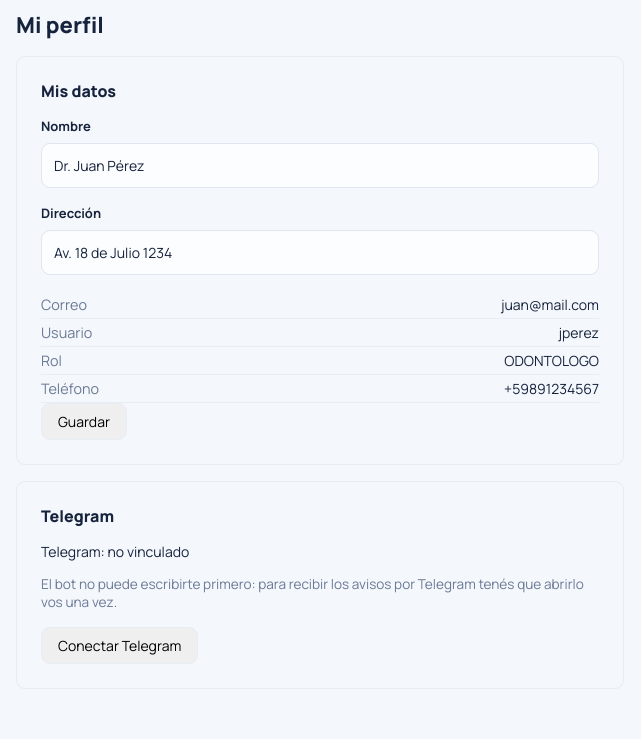
Perfil › guarda el nombre y la dirección
Step 1. Replace the text in the field labelled "Nombre" with "Dr. Juan P. Pérez" → (320, 165), box [41, 142, 599, 188]
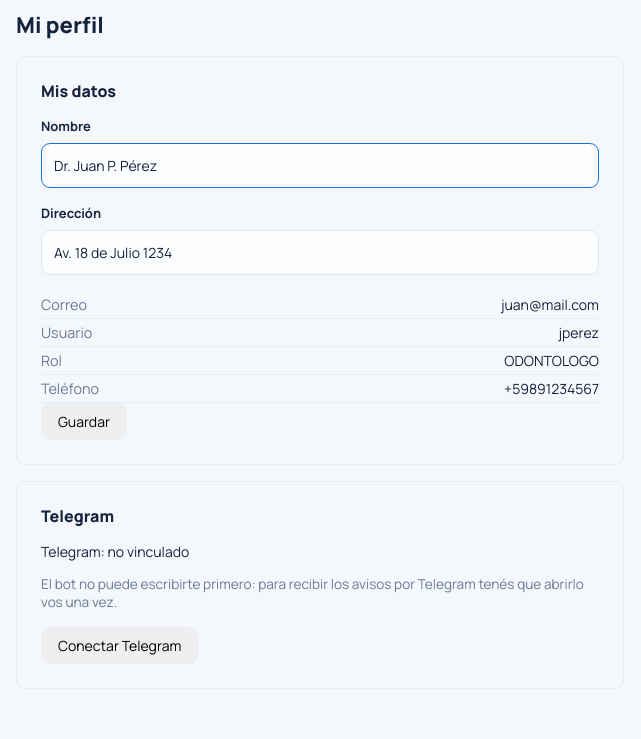
Step 2. Click the button "Guardar" → (84, 421), box [41, 402, 127, 440]
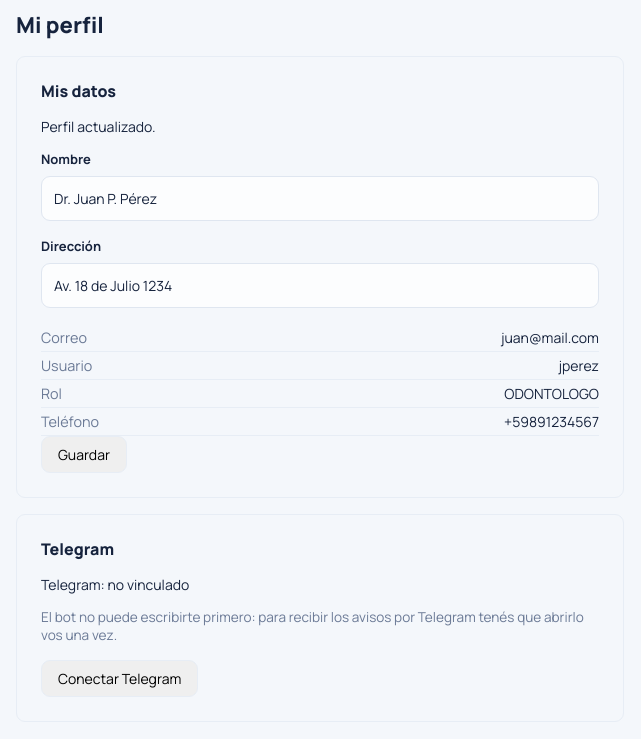
Expected: the message reads "Perfil actualizado.", [41, 116, 156, 136]
